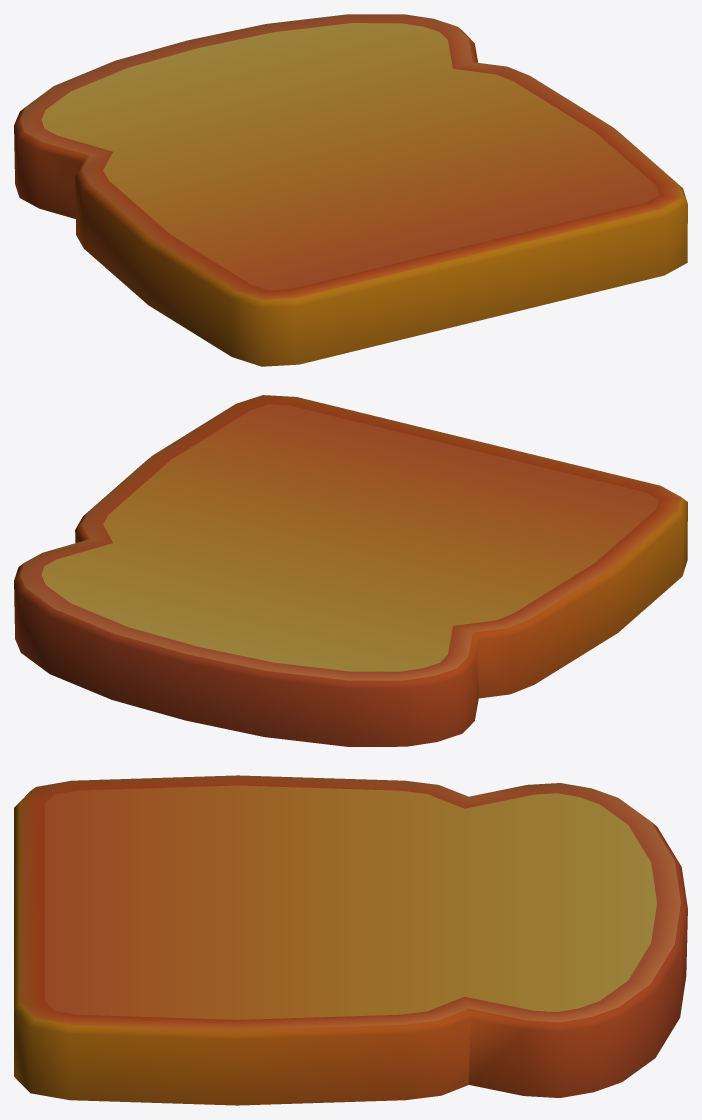
The model's file is Sandwich_003.glb.
3 views of the same model, one above another, from view 1: azimuth 30°, elevation 25°; view 2: azimuth 150°, elevation 25°; view 3: azimuth 270°, elevation 25° (orthographic). The views are drawn at different scales.
Parts seen in each view (by area): view 1: geometry_0; view 2: geometry_0; view 3: geometry_0.
Part boxes in pixels (x1,y1,x2,y2): geometry_0: (14, 14, 687, 366); geometry_0: (14, 395, 687, 746); geometry_0: (14, 775, 687, 1105).
Size of the model in its own units: 0.1298 by 0.0169 by 0.1419.
1 material, 1 textured.
